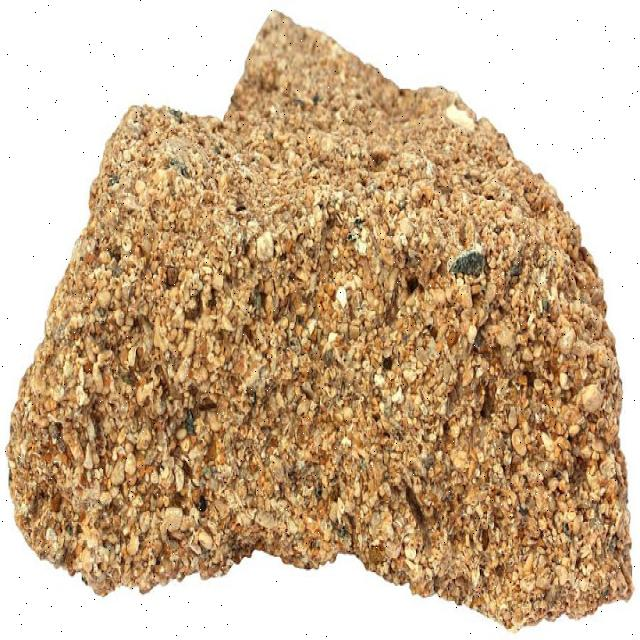Sedimentary: (12, 11, 634, 625)
